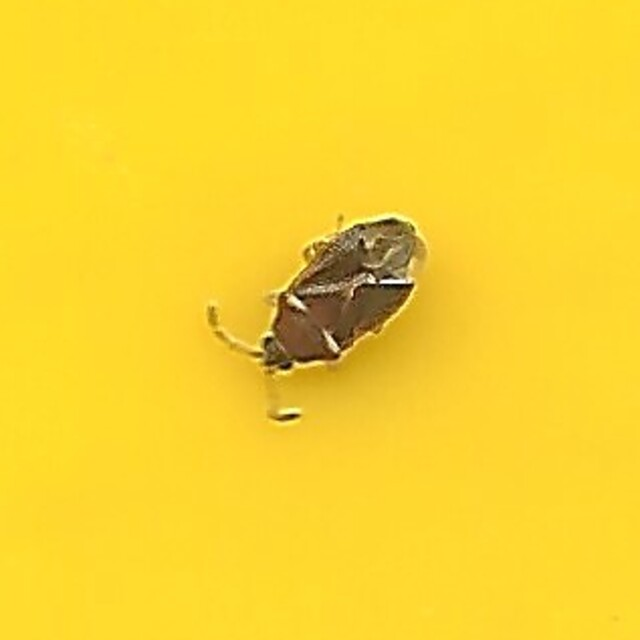Hemiptera: (202, 207, 438, 433)
